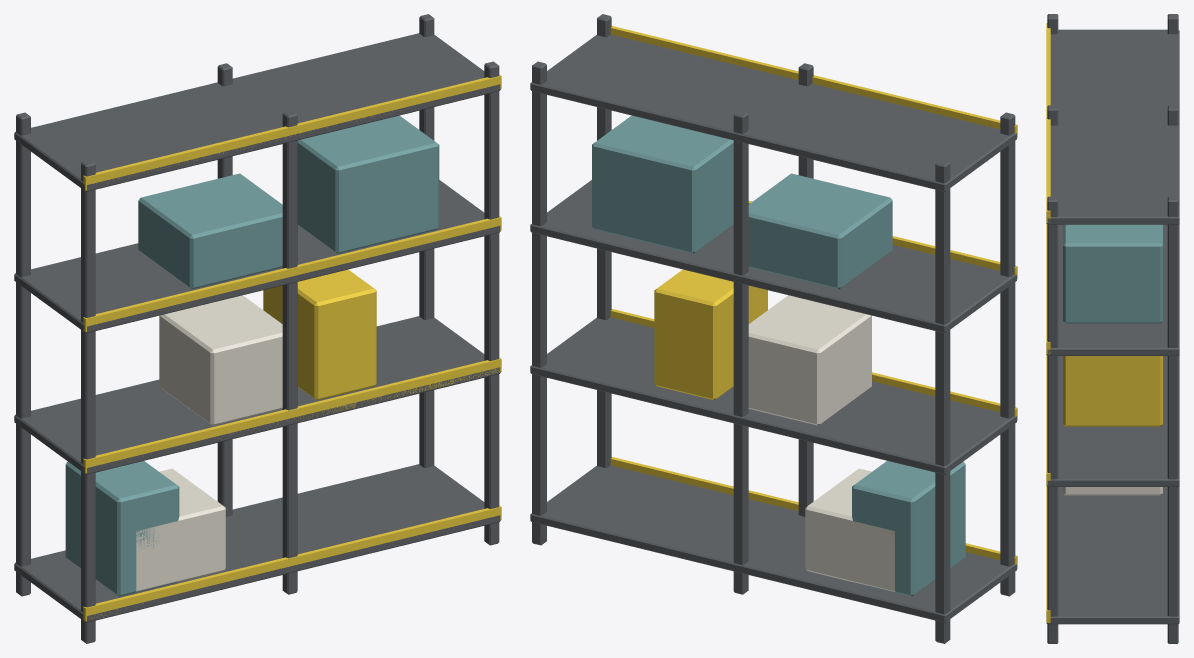
File: shelving_rack.glb
3 renders of one model, left to right at view 1: azimuth 30°, elevation 25°; view 2: azimuth 150°, elevation 25°; view 3: azimuth 270°, elevation 25°, orthographic. The views are drawn at different scales.
Parts seen in each view (by area): view 1: shelving_rack; view 2: shelving_rack; view 3: shelving_rack.
Boxes of the visible parts, box(x1,y1,x2,y2) form: shelving_rack: box(14, 14, 501, 643); shelving_rack: box(530, 14, 1017, 643); shelving_rack: box(1046, 14, 1179, 643).
Size of the model in its own units: 2 by 2.2 by 0.6.
